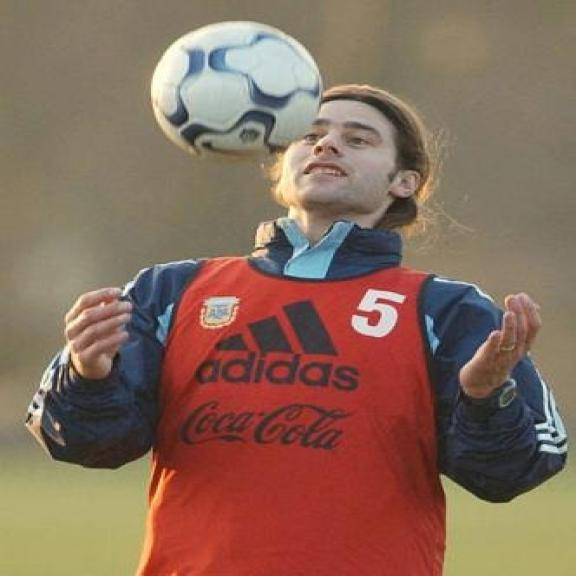face: (284, 83, 426, 227)
